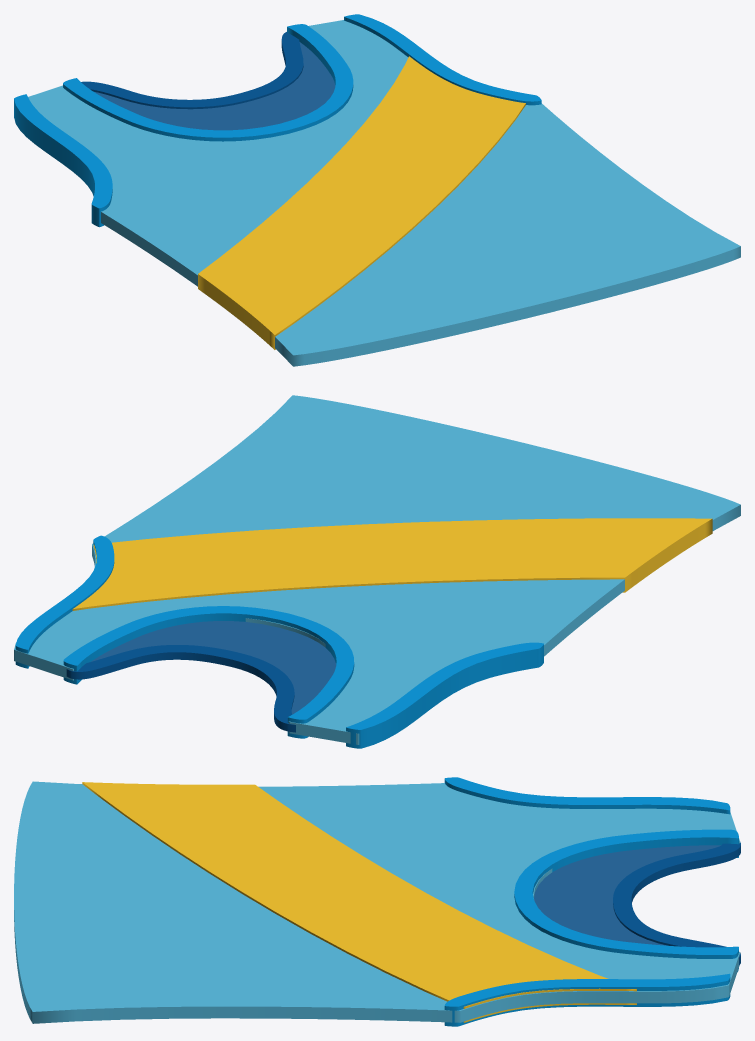
Rendered from emoji_u1f3bd.glb.
3 views of the same model, one above another, from view 1: azimuth 30°, elevation 25°; view 2: azimuth 150°, elevation 25°; view 3: azimuth 270°, elevation 25° (orthographic). The views are drawn at different scales.
Parts seen in each view (by area): view 1: emoji_u1f3bd; view 2: emoji_u1f3bd; view 3: emoji_u1f3bd.
Part boxes in pixels (x1=…): emoji_u1f3bd: x1=14, y1=14, x2=740, y2=366; emoji_u1f3bd: x1=14, y1=395, x2=740, y2=748; emoji_u1f3bd: x1=14, y1=777, x2=740, y2=1026.
Size of the model in its own units: 0.0249 by 0.001 by 0.0332.
